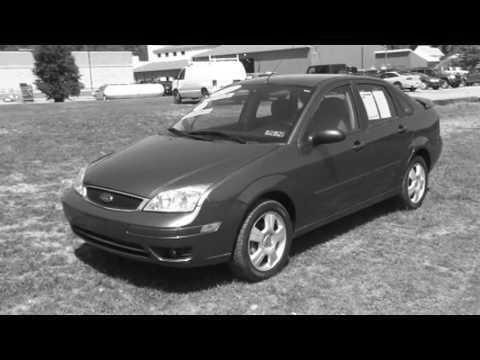car: (65, 76, 447, 281)
